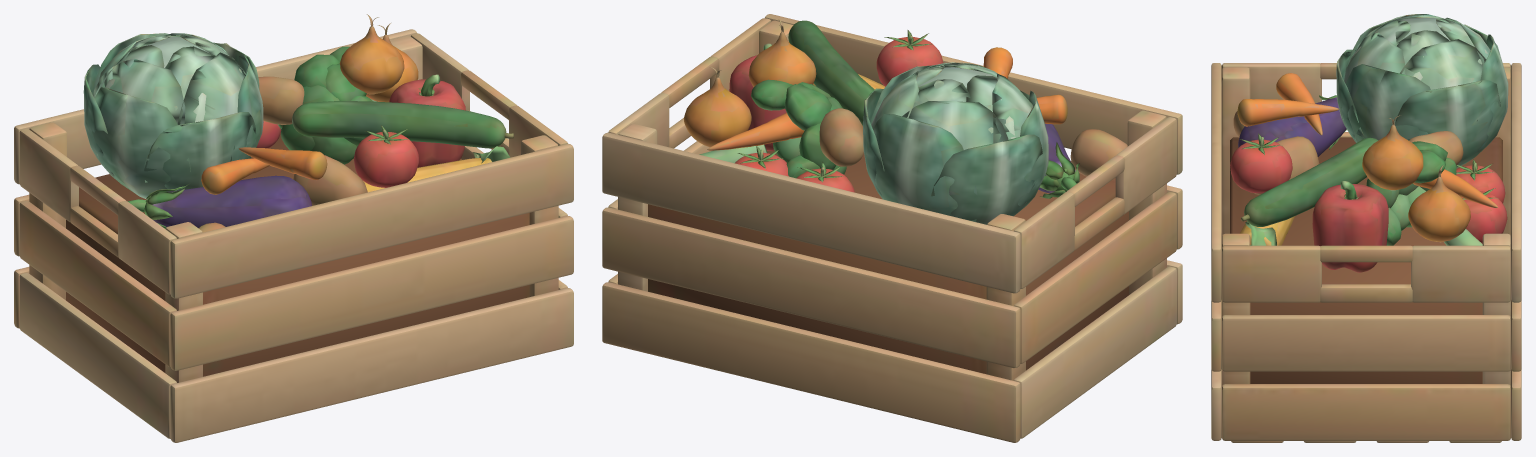
Rendered from vegetable-crate.glb.
3 renders of one model, left to right at view 1: azimuth 30°, elevation 25°; view 2: azimuth 150°, elevation 25°; view 3: azimuth 270°, elevation 25°, orthographic. The views are drawn at different scales.
Visible parts, largest first — view 1: vegetable-crate_body; view 2: vegetable-crate_body; view 3: vegetable-crate_body.
Part boxes in pixels (bbox=[...]): vegetable-crate_body: bbox=[14, 14, 573, 442]; vegetable-crate_body: bbox=[602, 14, 1182, 442]; vegetable-crate_body: bbox=[1211, 14, 1521, 442].
Bounding box in the file's own units: 0.5 × 0.3588 × 0.35.
1 material, 1 textured.
